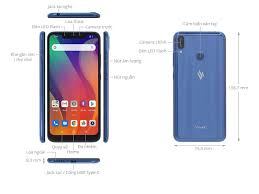iphone: (169, 28, 229, 144)
